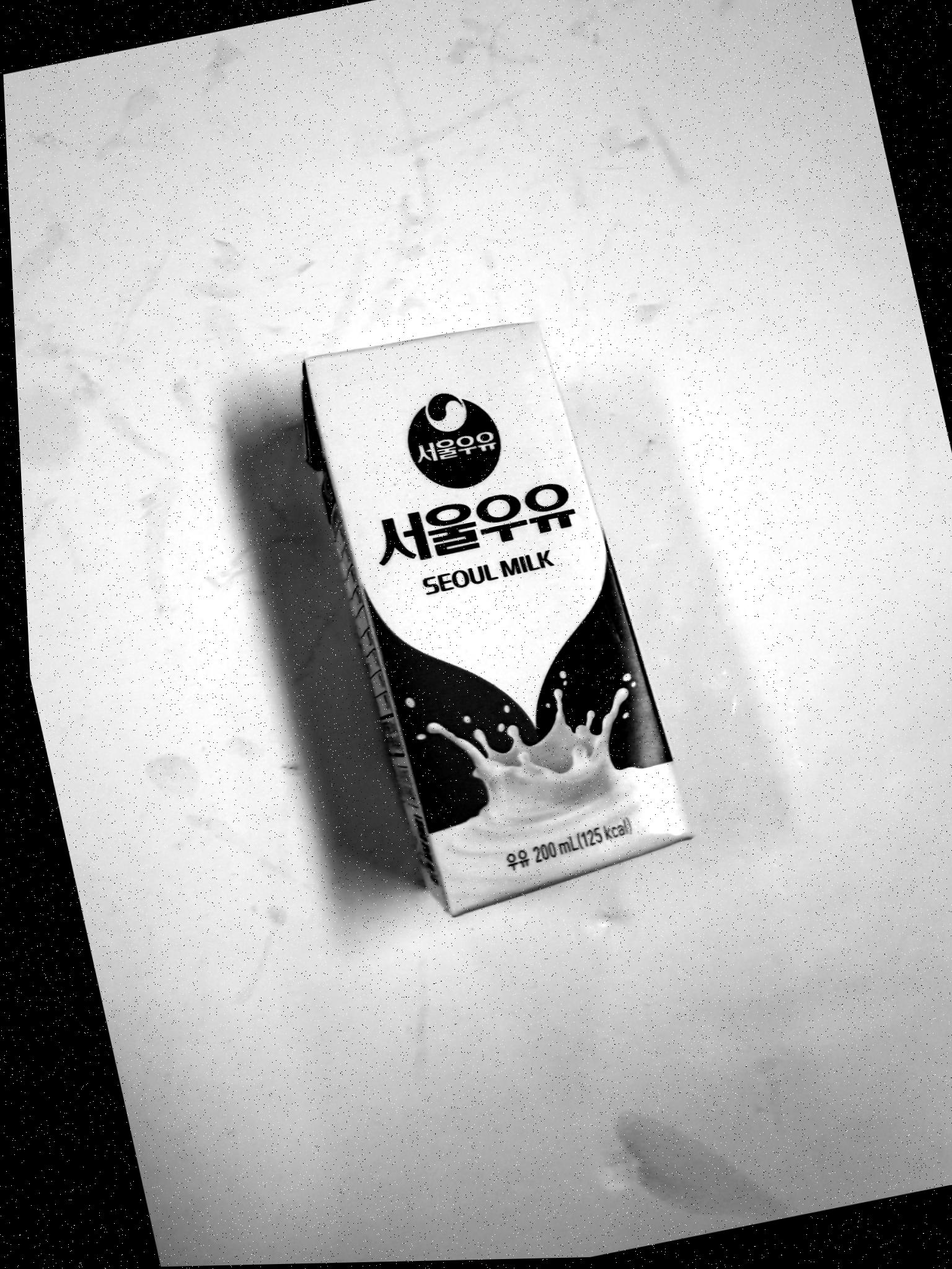milk_green: (303, 324, 691, 915)
